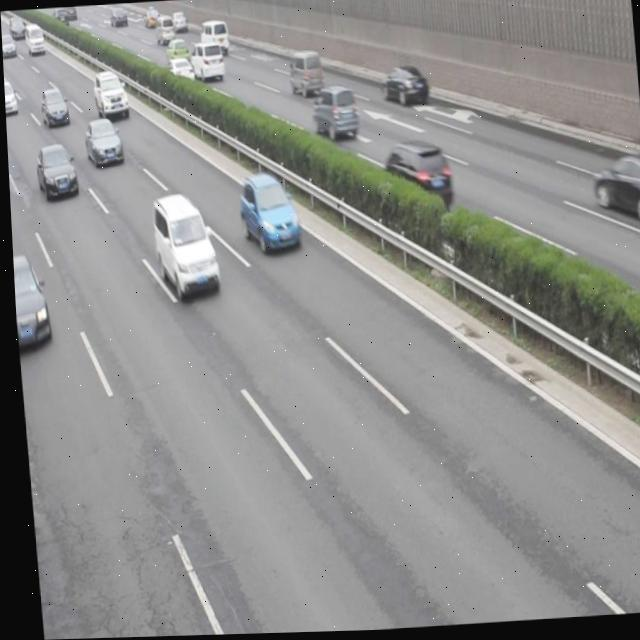car: (148, 191, 217, 299), (381, 139, 450, 209), (235, 174, 296, 253), (586, 154, 640, 230), (10, 250, 45, 348), (308, 86, 358, 142), (33, 142, 75, 199), (378, 65, 427, 109), (81, 117, 123, 167), (91, 70, 128, 119), (188, 42, 224, 82), (39, 88, 67, 129), (164, 60, 194, 87), (164, 39, 188, 67), (3, 77, 14, 113), (170, 11, 186, 32)
truck: (286, 49, 321, 96), (199, 21, 227, 55), (154, 17, 173, 44)
